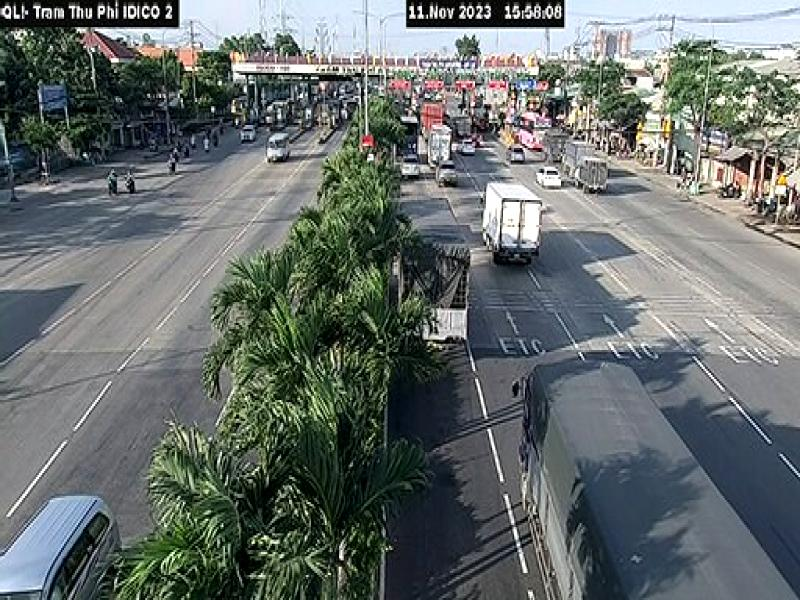truck: (512, 358, 800, 600), (392, 194, 475, 364), (483, 186, 542, 266)
